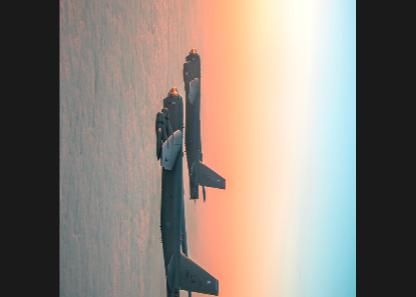B2: (156, 84, 220, 296), (183, 46, 226, 203)
